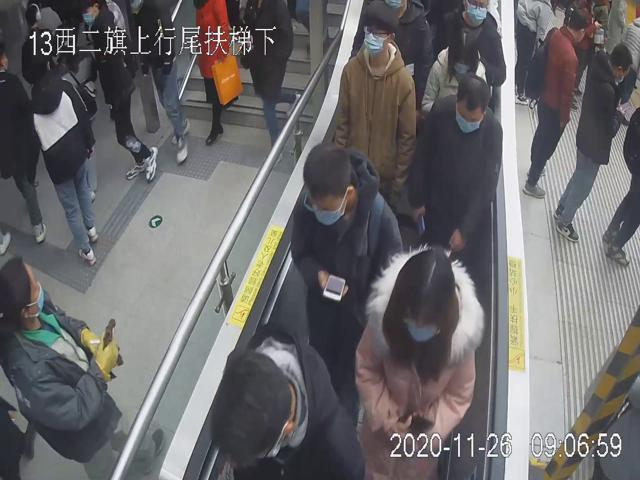person: (289, 140, 403, 423), (353, 245, 484, 480), (332, 3, 417, 214), (407, 71, 503, 256), (27, 44, 101, 266), (553, 38, 632, 245), (522, 8, 589, 202), (417, 28, 491, 116)
